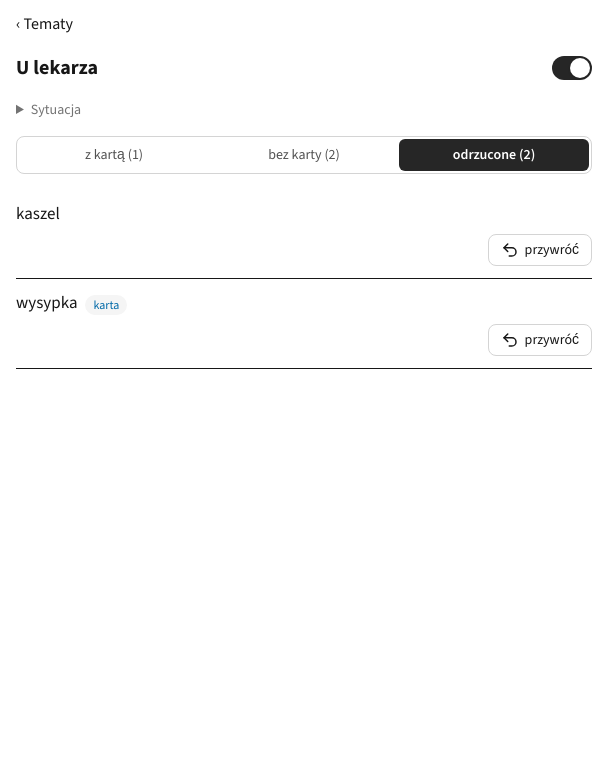
Scenario: TopicPage › opens on the tab last used for this topic, and remembers a new choice
Expected: the text "kaszel" is shown, x1=16 y1=202 x2=60 y2=225
Click the button "z kartą (1)" at (114, 155), box x1=19 y1=139 x2=209 y2=171
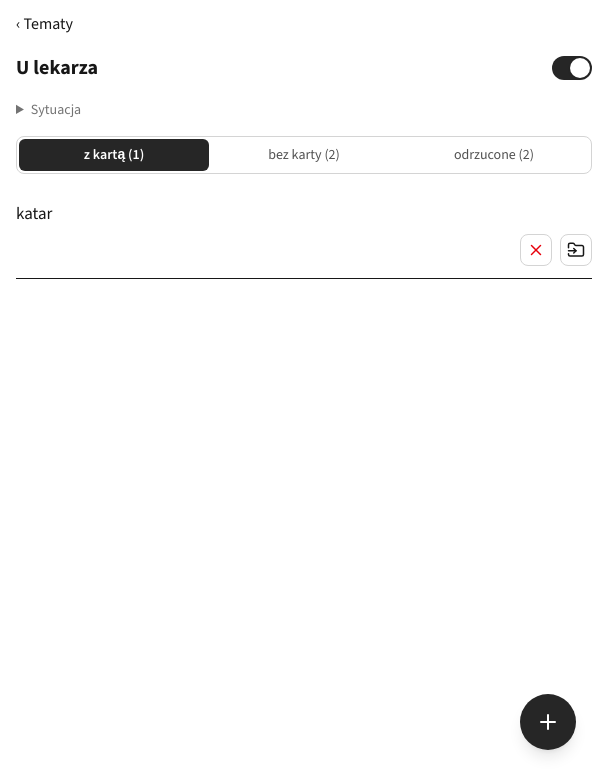
Expected: the text "katar" is shown, x1=16 y1=202 x2=52 y2=225
